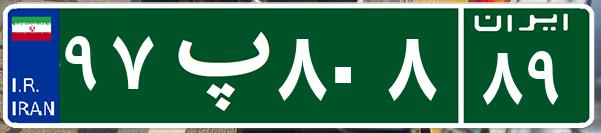0: (330, 28, 385, 110)
7: (110, 28, 158, 105)
8: (385, 28, 445, 110), (273, 28, 330, 110), (475, 38, 525, 113)
9: (57, 26, 110, 107), (525, 38, 570, 115)
پ: (158, 15, 273, 115)
